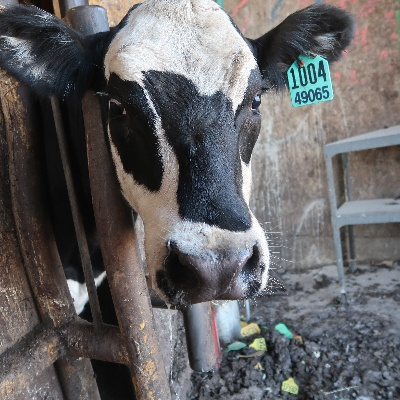fidget_spinner: (155, 229, 277, 317)
